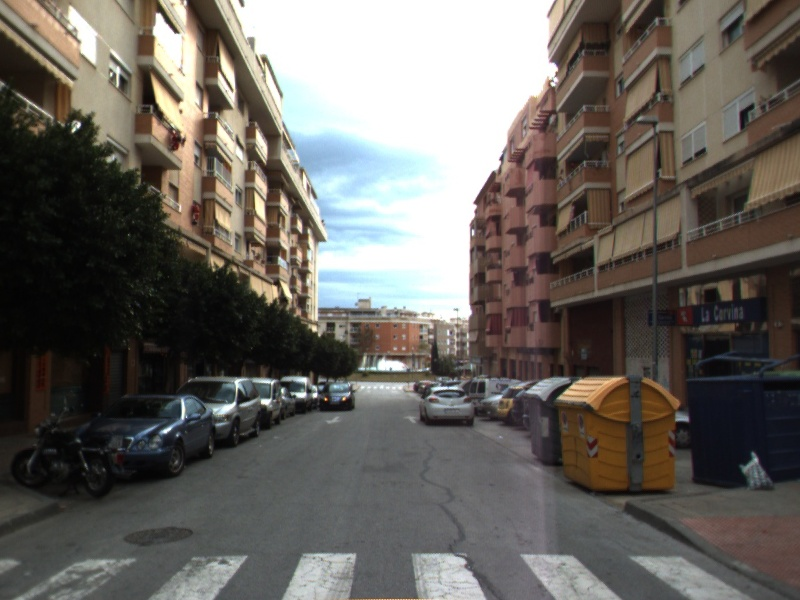STRAIGHT: (401, 413, 420, 425)
